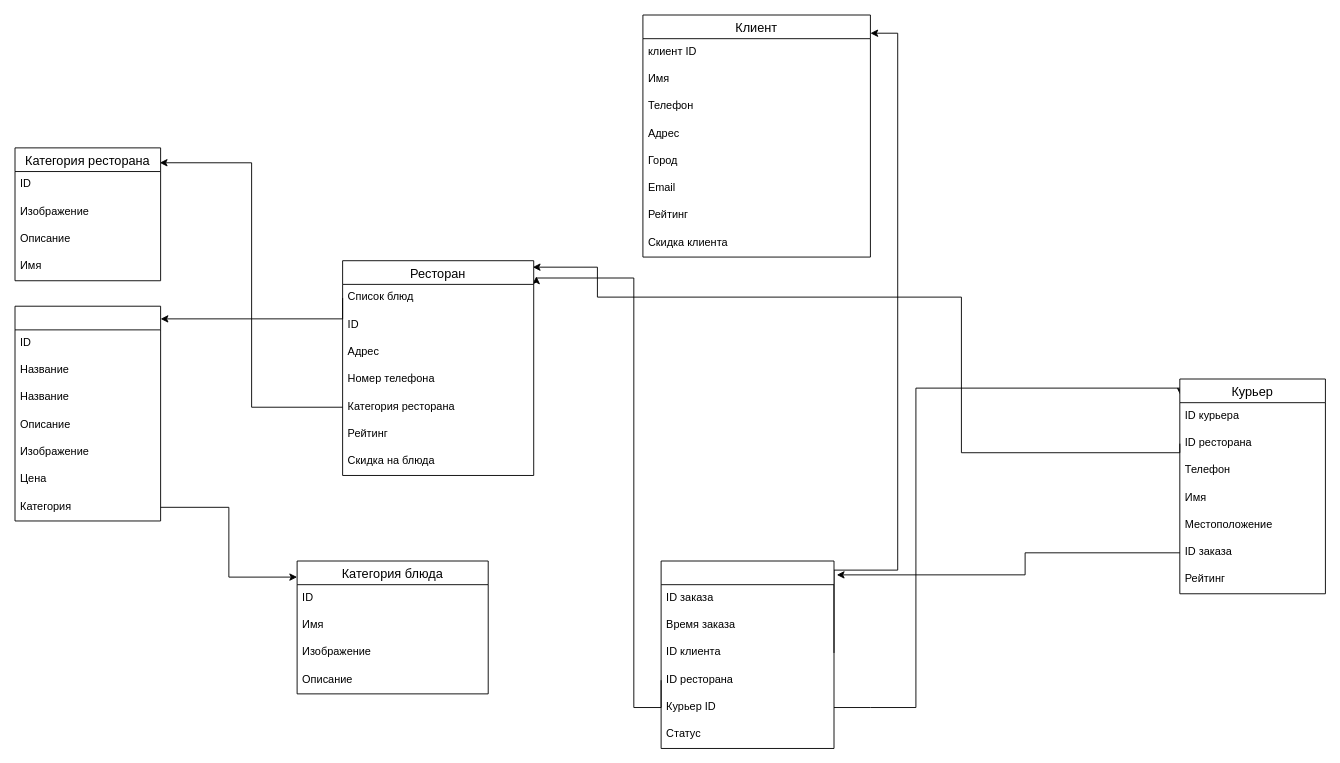
The diagram is 1340 pixels wide and 763 high, and some of its shapes have lost their labels. The box of each missing label's shape, as (x1, y1, x2, y2) in pixels:
Блюда: (14, 305, 161, 521)
Заказы: (660, 560, 834, 748)
